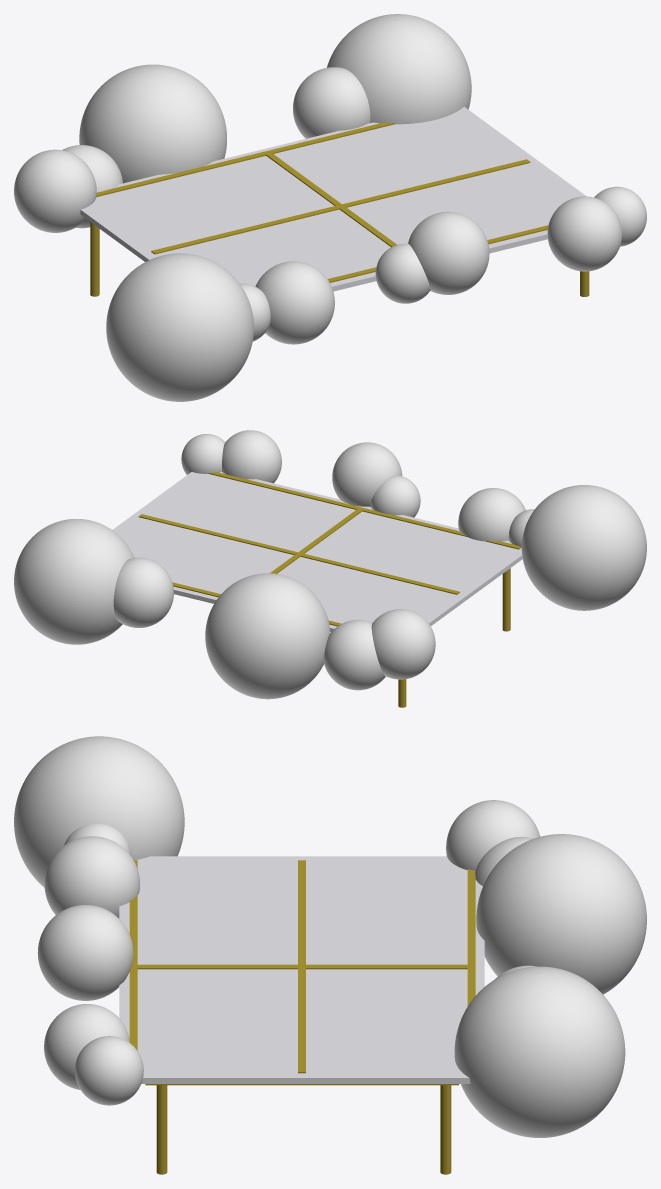
Rendered from Tablanube.fbx.
3 views of the same model, one above another, from view 1: azimuth 30°, elevation 25°; view 2: azimuth 150°, elevation 25°; view 3: azimuth 270°, elevation 25° (orthographic). The views are drawn at different scales.
Visible parts, largest first — view 1: Cube.001, Sphere.003, Sphere.012, Sphere.006, Sphere.008, Sphere.010, Sphere.004, Sphere.001, Sphere.005, Sphere.011, Cube.005, Sphere (+6 smaller); view 2: Cube.001, Sphere.003, Sphere.012, Sphere.006, Sphere.008, Sphere.005, Sphere.009, Sphere.010, Sphere.004, Sphere.001, Sphere.011, Sphere (+5 smaller); view 3: Cube.001, Sphere.006, Sphere.012, Sphere.003, Sphere.010, Sphere.004, Sphere.008, Sphere, Sphere.001, Cube.003, Cube.005, Cube.002 (+6 smaller).
Boxes of the visible parts, x1,y1,x2,y2 form: Cube.001: (80, 106, 586, 291); Sphere.003: (106, 253, 253, 401); Sphere.012: (79, 64, 226, 183); Sphere.006: (327, 14, 471, 124); Sphere.008: (14, 149, 96, 232); Sphere.010: (408, 211, 489, 294); Sphere.004: (255, 261, 334, 344); Sphere.001: (547, 196, 622, 271); Sphere.005: (293, 67, 370, 138); Sphere.011: (375, 243, 430, 303); Cube.005: (151, 159, 530, 254); Sphere: (594, 186, 646, 246); Cube.001: (112, 472, 522, 632); Sphere.003: (521, 485, 646, 610); Sphere.012: (205, 573, 330, 699); Sphere.006: (14, 519, 134, 644); Sphere.008: (371, 609, 435, 679); Sphere.005: (113, 557, 173, 627); Sphere.009: (323, 619, 385, 690); Sphere.010: (332, 442, 402, 506); Sphere.004: (458, 488, 525, 541); Sphere.001: (222, 430, 281, 483); Sphere.011: (370, 475, 420, 517); Sphere: (181, 434, 225, 474); Cube.001: (119, 856, 484, 1083); Sphere.006: (454, 966, 625, 1137); Sphere.012: (476, 834, 646, 994); Sphere.003: (14, 736, 184, 887); Sphere.010: (37, 905, 133, 1000); Sphere.004: (44, 836, 139, 918); Sphere.008: (446, 800, 540, 870); Sphere: (74, 1036, 143, 1105); Sphere.001: (44, 1004, 129, 1089); Cube.003: (131, 964, 467, 969); Cube.005: (298, 860, 305, 1073); Cube.002: (129, 860, 137, 1050).
Bounding box in the file's own units: 9936 × 2838 × 8793.
